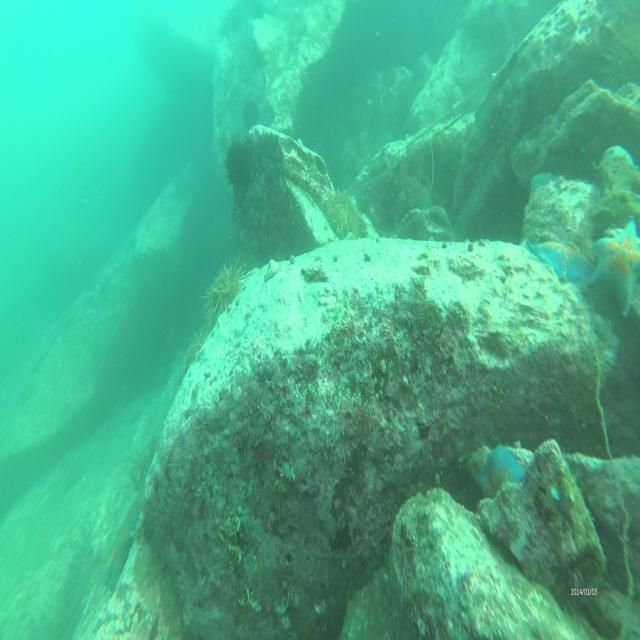echinus: (200, 254, 250, 324), (218, 124, 255, 196), (324, 184, 356, 238), (183, 327, 209, 370)
starfish: (591, 214, 640, 313), (467, 442, 532, 512), (526, 230, 594, 284), (598, 143, 640, 174)
